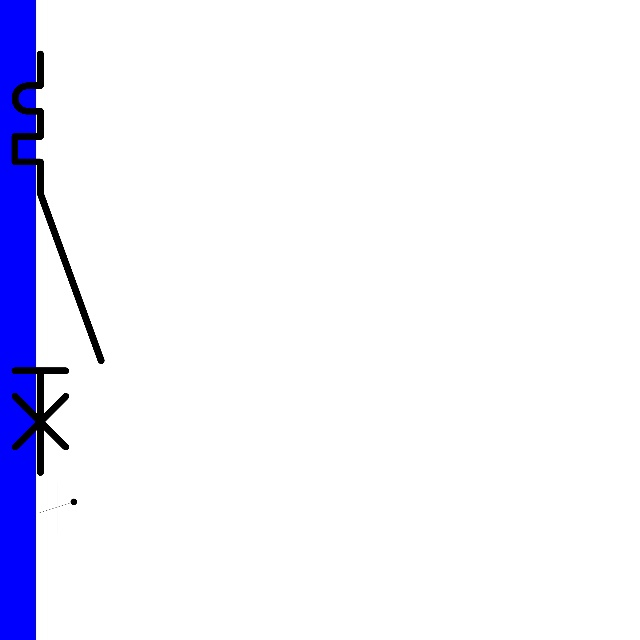interruptor_termomagnetico: (4, 43, 111, 483)
